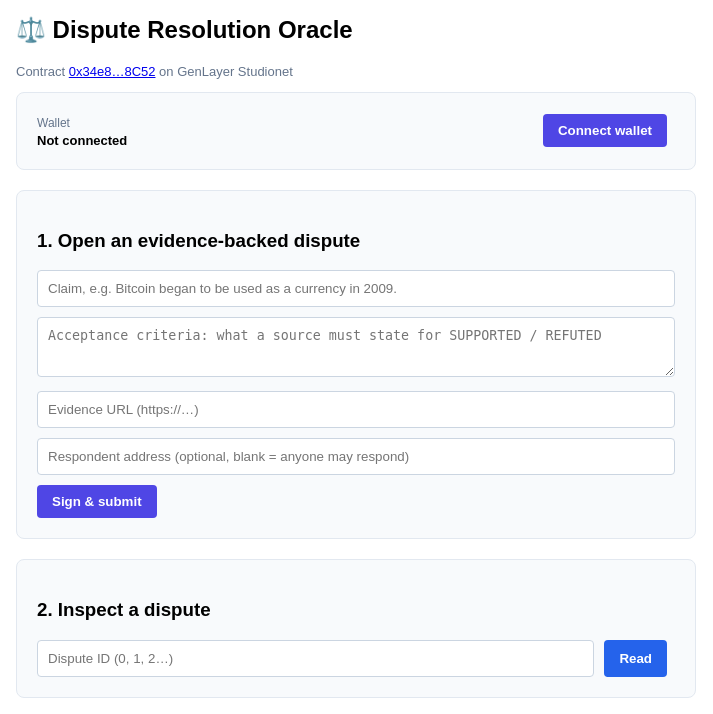
Scenario: App › displays an explicit error and NO verdict when the contract read fails
The width and height of the screenshot is (713, 714).
Type "7" into the field labelled "Dispute ID".
click(316, 658); type("7")  # box [37,640,594,677]
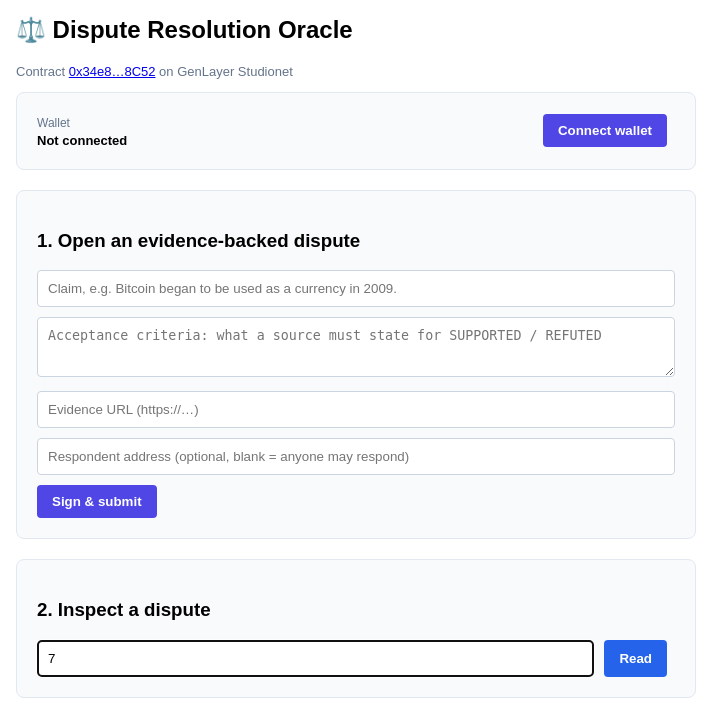
Click the button "Read".
click(636, 658)  # box [604,640,667,677]
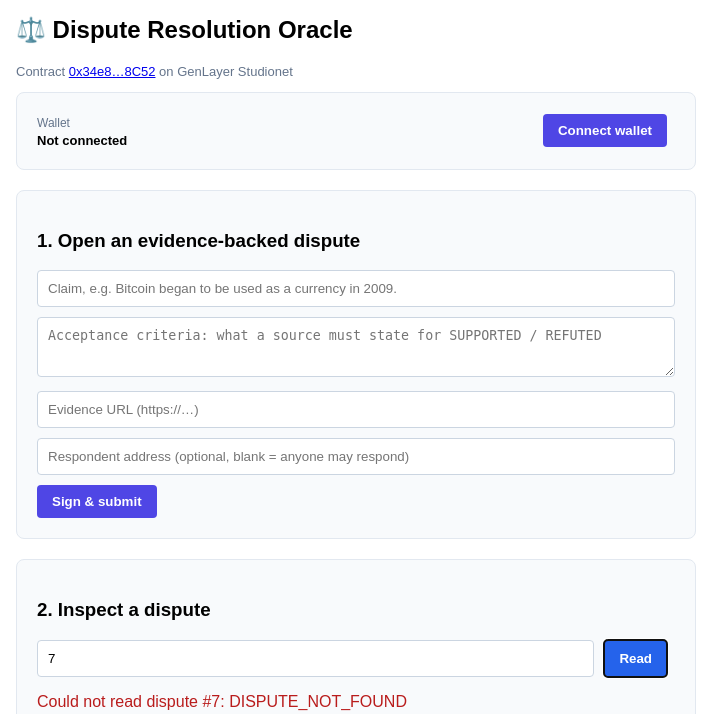
Result: the message reads "Could not read dispute #7: DISPUTE_NOT_FOUND" at [37,693,407,710]
